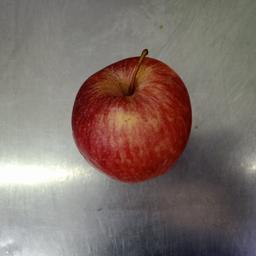Apple Fresh: (64, 54, 199, 185)
